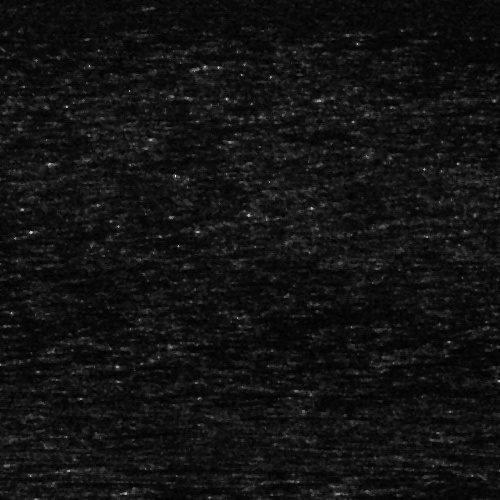object: (56, 462, 161, 471)
shadow: (109, 462, 303, 471)
